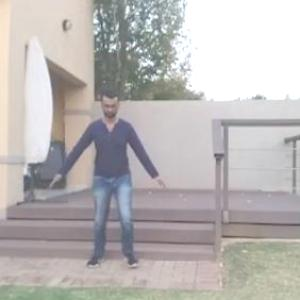land: (44, 90, 158, 274)
